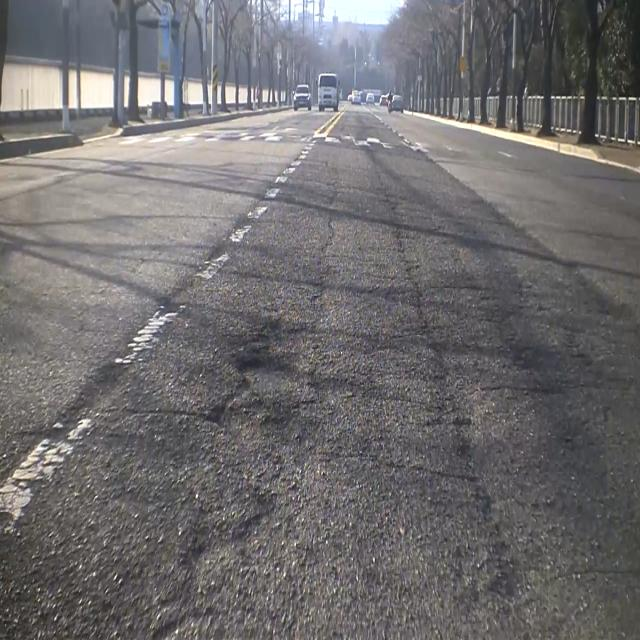Pothole: (146, 503, 276, 640), (209, 314, 306, 439)
